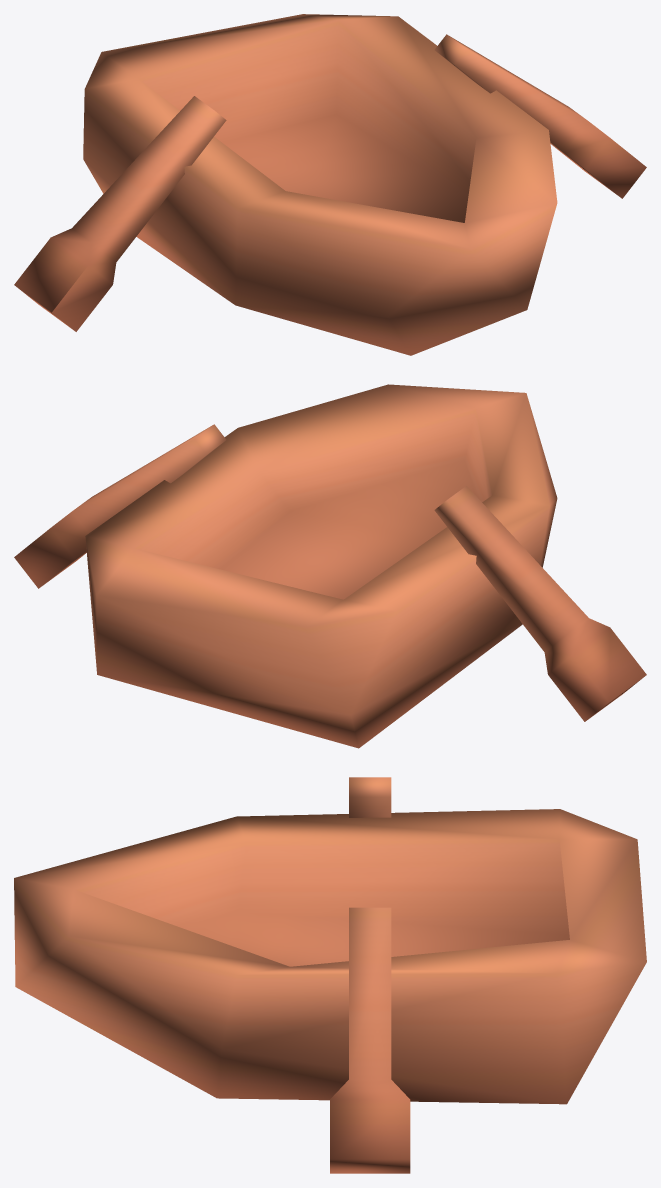
File: boat-row-small-medium.glb
The picture shows the model from 3 angles, top to bottom: view 1: azimuth 30°, elevation 25°; view 2: azimuth 150°, elevation 25°; view 3: azimuth 270°, elevation 25°; orthographic projection. The views are drawn at different scales.
Visible parts, largest first — view 1: boat-row-small baked, paddles baked; view 2: boat-row-small baked, paddles baked; view 3: boat-row-small baked, paddles baked.
Part boxes in pixels (x1,y1,x2,y2): boat-row-small baked: (83, 14, 557, 355); paddles baked: (14, 34, 646, 331); boat-row-small baked: (85, 384, 557, 748); paddles baked: (14, 424, 646, 721); boat-row-small baked: (14, 809, 646, 1104); paddles baked: (330, 777, 410, 1173).
Bounding box in the file's own units: 2.74 × 0.8477 × 2.38.
1 material, 1 textured.
